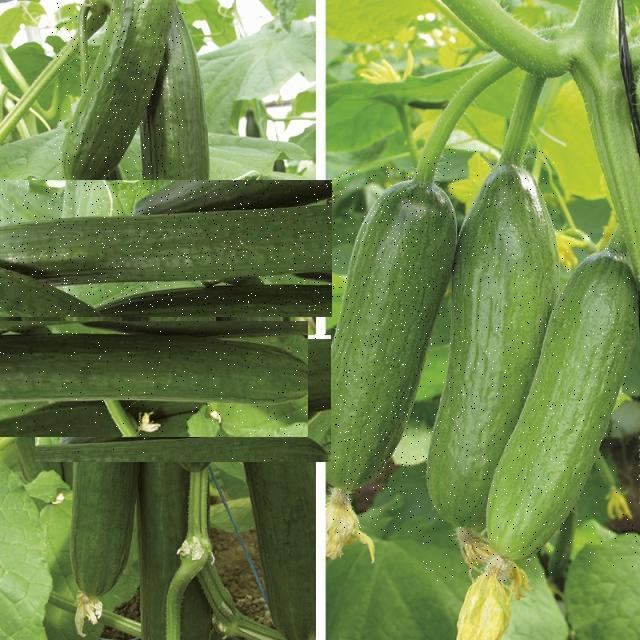Cucumber: (427, 153, 559, 533), (482, 249, 636, 562), (326, 170, 460, 502)
